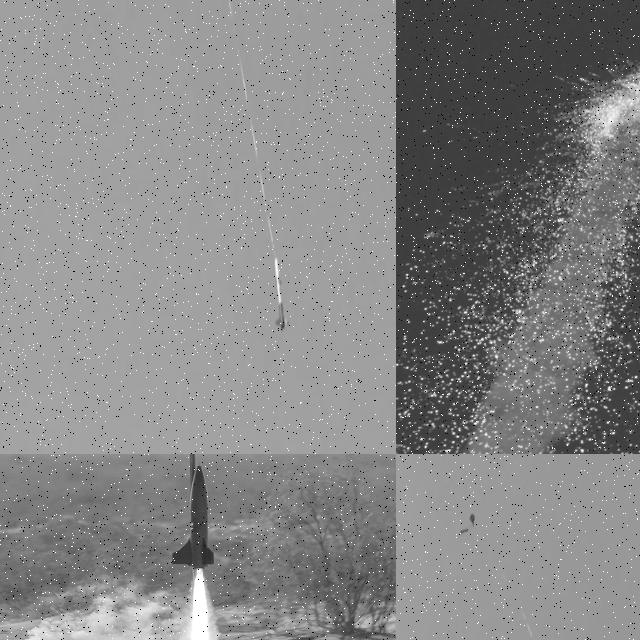Rocket: (171, 459, 216, 572), (274, 260, 289, 330)
